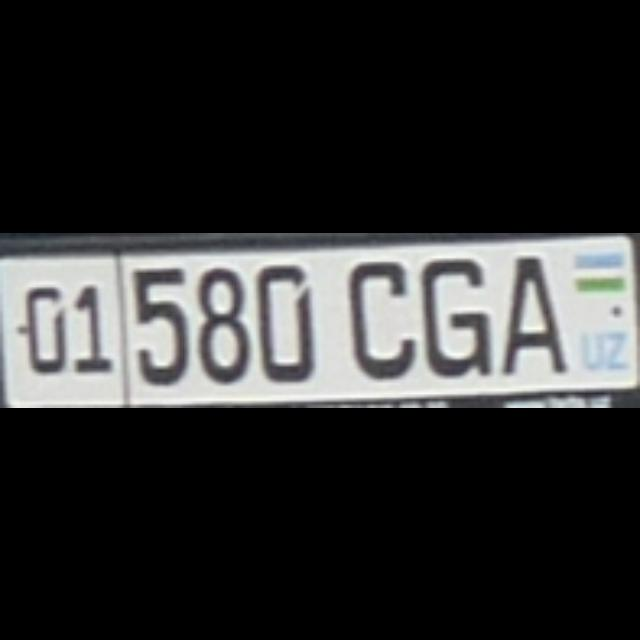0: (254, 261, 308, 375), (22, 284, 62, 368)
1: (68, 281, 108, 369)
5: (130, 264, 186, 382)
8: (192, 264, 246, 378)
A: (500, 252, 562, 368)
C: (344, 258, 412, 374)
G: (419, 255, 487, 372)
